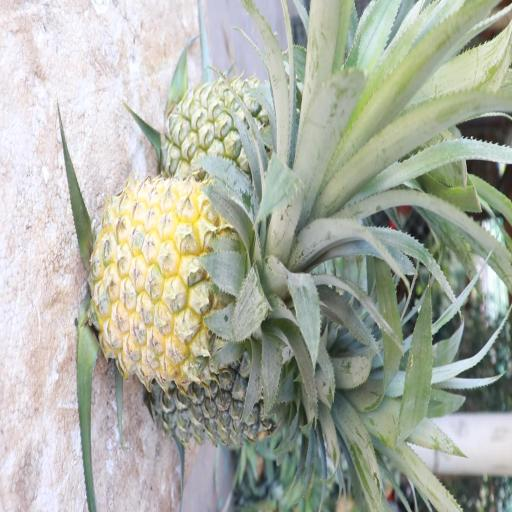------------------------------: (159, 61, 324, 194)
Pineapple - v8 v1: (90, 187, 292, 375)
